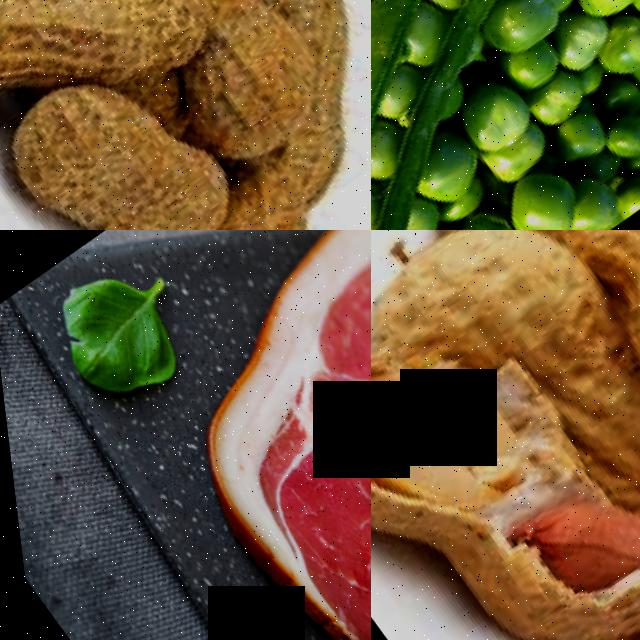peanuts: (63, 0, 371, 230), (0, 46, 248, 230), (520, 230, 640, 420)
peas: (442, 0, 640, 230), (371, 0, 640, 152), (380, 81, 606, 230)
pork belly: (145, 316, 371, 640), (245, 230, 371, 497)
